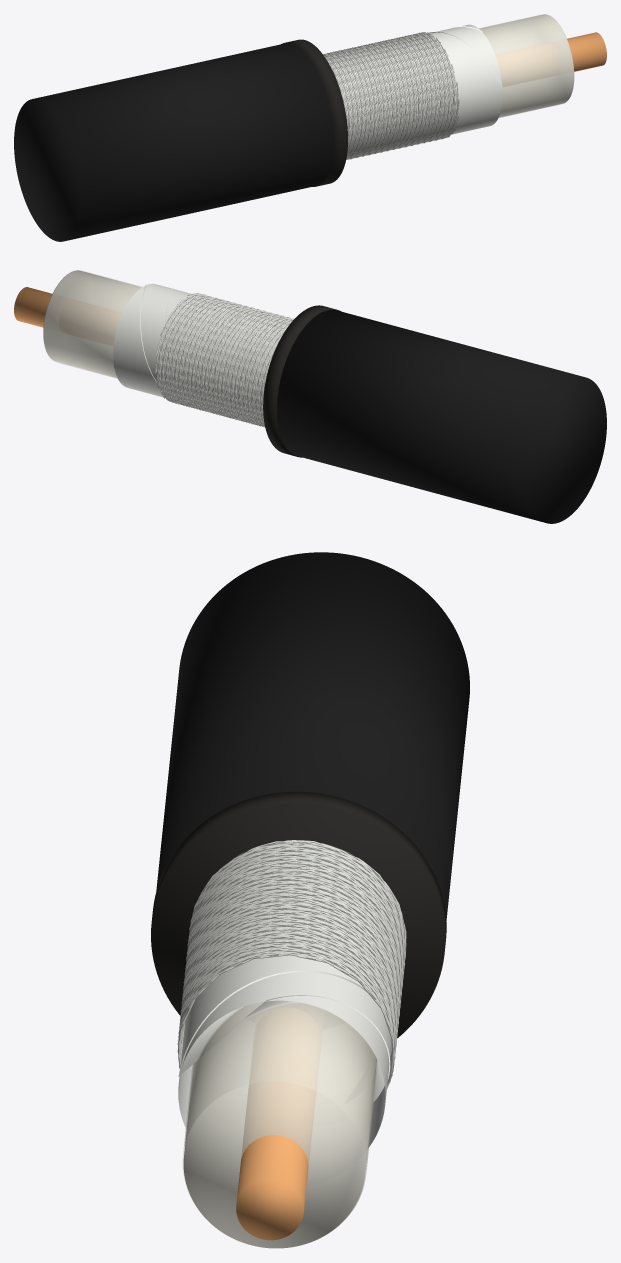
The model's file is rf-lmr240.glb.
The picture shows the model from 3 angles, top to bottom: view 1: azimuth 30°, elevation 25°; view 2: azimuth 150°, elevation 25°; view 3: azimuth 270°, elevation 25°; orthographic projection. The views are drawn at different scales.
Parts seen in each view (by area): view 1: matte black pvc jacket body, duobond foil sleeve, gas injected foam dielectric, smooth dielectric skin, jacket cut lip, solid center conductor continuous, braid left hand carrier 11, braid left hand carrier 09, braid left hand carrier 08, braid left hand carrier 12, braid left hand carrier 14, braid left hand carrier 15 (+30 smaller); view 2: matte black pvc jacket body, duobond foil sleeve, gas injected foam dielectric, smooth dielectric skin, jacket cut lip, solid center conductor continuous, braid left hand carrier 06, braid left hand carrier 03, braid left hand carrier 05, braid left hand carrier 02, braid left hand carrier 08, braid left hand carrier 17 (+30 smaller); view 3: matte black pvc jacket body, gas injected foam dielectric, jacket cut lip, smooth dielectric skin, duobond foil sleeve, solid center conductor continuous, braid left hand carrier 03, braid left hand carrier 06, braid left hand carrier 18, braid left hand carrier 09, braid left hand carrier 05, braid left hand carrier 02 (+13 smaller).
Boxes of the visible parts, bbox=[...] form: matte black pvc jacket body: bbox=[14, 43, 334, 241]; duobond foil sleeve: bbox=[328, 24, 502, 151]; gas injected foam dielectric: bbox=[479, 14, 574, 117]; smooth dielectric skin: bbox=[479, 14, 573, 117]; jacket cut lip: bbox=[281, 39, 347, 186]; solid center conductor continuous: bbox=[567, 32, 606, 71]; braid left hand carrier 11: bbox=[323, 37, 455, 156]; braid left hand carrier 09: bbox=[324, 32, 452, 157]; braid left hand carrier 08: bbox=[325, 32, 450, 158]; braid left hand carrier 12: bbox=[324, 36, 456, 156]; braid left hand carrier 14: bbox=[328, 36, 459, 156]; braid left hand carrier 15: bbox=[327, 35, 458, 155]; matte black pvc jacket body: bbox=[277, 309, 606, 523]; duobond foil sleeve: bbox=[113, 283, 284, 419]; gas injected foam dielectric: bbox=[43, 270, 141, 377]; smooth dielectric skin: bbox=[44, 270, 141, 378]; jacket cut lip: bbox=[263, 305, 341, 457]; solid center conductor continuous: bbox=[14, 287, 52, 327]; braid left hand carrier 06: bbox=[156, 294, 284, 426]; braid left hand carrier 03: bbox=[158, 296, 289, 422]; braid left hand carrier 05: bbox=[155, 295, 285, 424]; braid left hand carrier 02: bbox=[159, 296, 290, 423]; braid left hand carrier 08: bbox=[167, 294, 287, 426]; braid left hand carrier 17: bbox=[163, 297, 293, 424]; matte black pvc jacket body: bbox=[156, 552, 469, 920]; gas injected foam dielectric: bbox=[183, 1002, 376, 1248]; jacket cut lip: bbox=[151, 791, 446, 1037]; smooth dielectric skin: bbox=[183, 1002, 377, 1237]; duobond foil sleeve: bbox=[178, 868, 391, 1147]; solid center conductor continuous: bbox=[236, 1081, 315, 1240]; braid left hand carrier 03: bbox=[181, 844, 405, 1080]; braid left hand carrier 06: bbox=[178, 848, 405, 1043]; braid left hand carrier 18: bbox=[181, 841, 405, 1041]; braid left hand carrier 09: bbox=[179, 853, 404, 1034]; braid left hand carrier 05: bbox=[179, 847, 404, 1065]; braid left hand carrier 02: bbox=[179, 843, 405, 1081].
Size of the model in its own units: 6.53 by 1.54 by 1.67.
